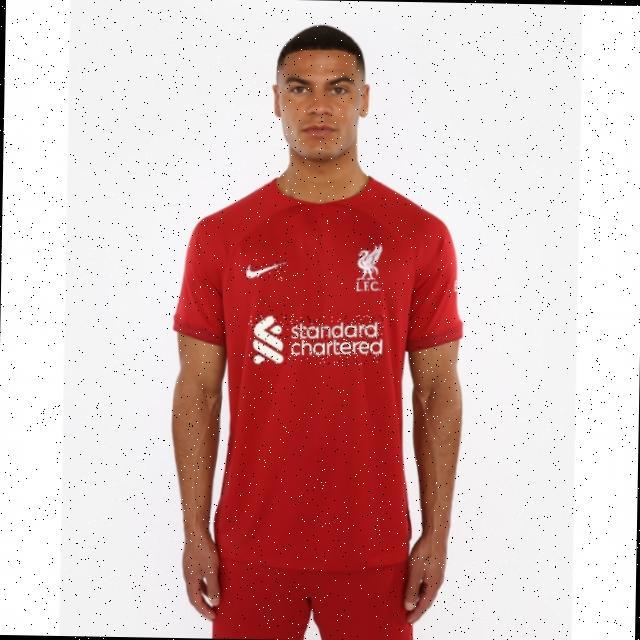Nike: (245, 258, 286, 280)
Standard Chartered: (247, 313, 384, 365)
